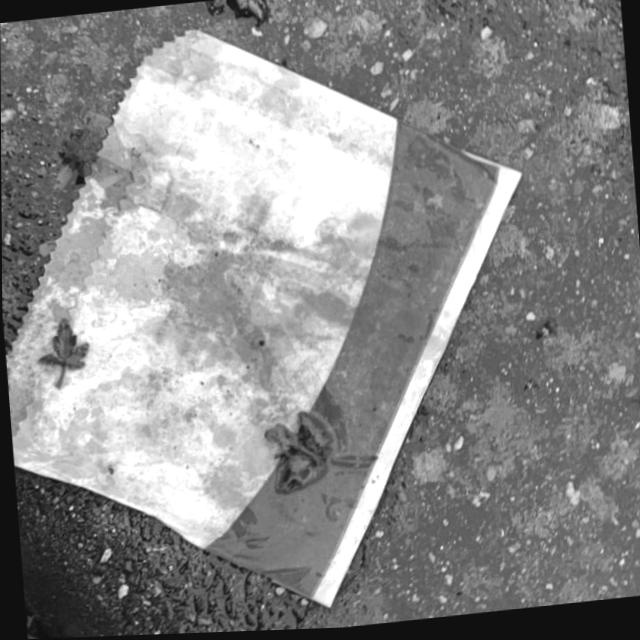Paper: (0, 0, 558, 640)
